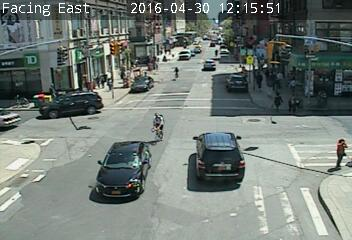neg: (138, 106, 174, 154), (225, 56, 247, 85), (6, 82, 28, 111), (62, 87, 82, 113), (132, 78, 151, 105), (314, 85, 332, 110), (167, 63, 185, 87), (307, 49, 325, 73), (282, 43, 300, 67), (250, 39, 268, 63), (306, 76, 322, 98), (337, 89, 351, 112), (304, 96, 314, 110), (329, 71, 339, 84), (339, 68, 349, 81)
pos: (325, 133, 351, 173), (42, 79, 61, 104), (250, 69, 269, 94), (267, 88, 286, 112), (263, 69, 280, 91), (283, 93, 299, 115), (271, 71, 287, 91), (287, 76, 301, 93), (90, 73, 102, 88), (97, 74, 108, 89)
